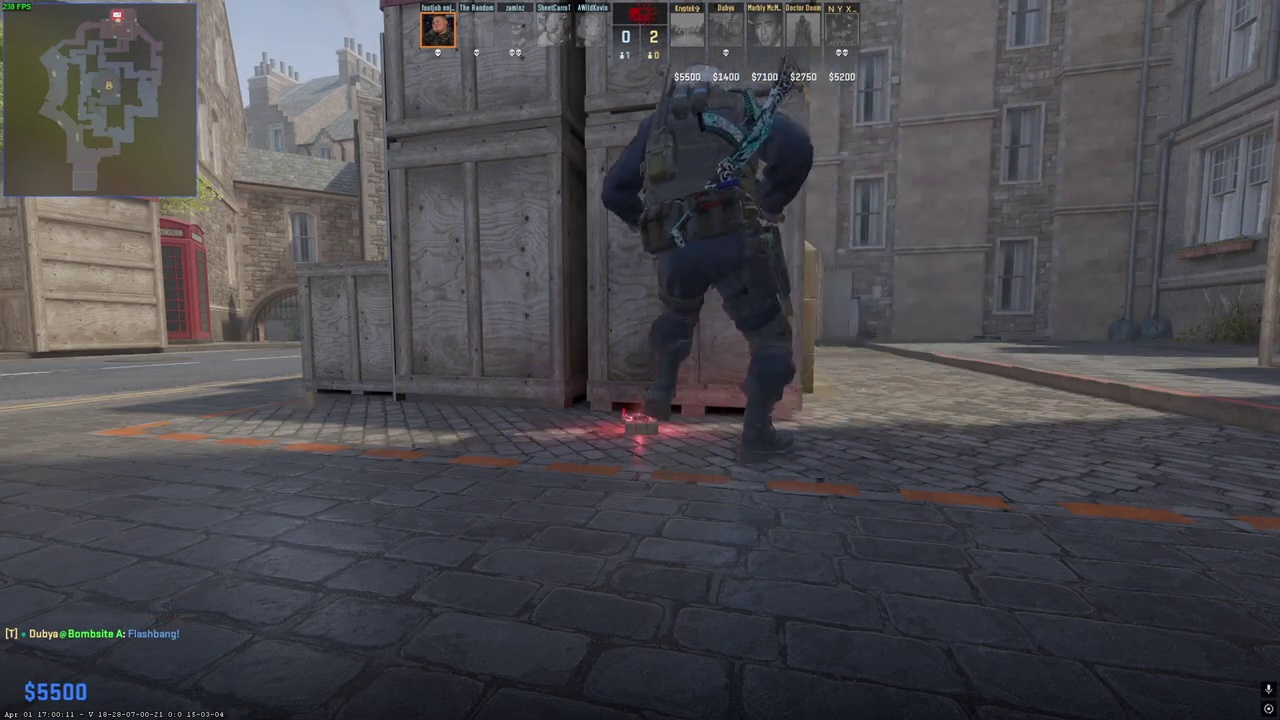CT: (606, 58, 815, 459)
